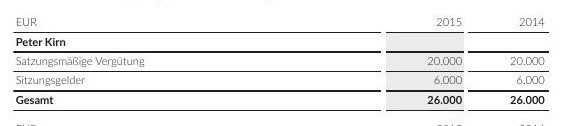table: (0, 0, 566, 126)
